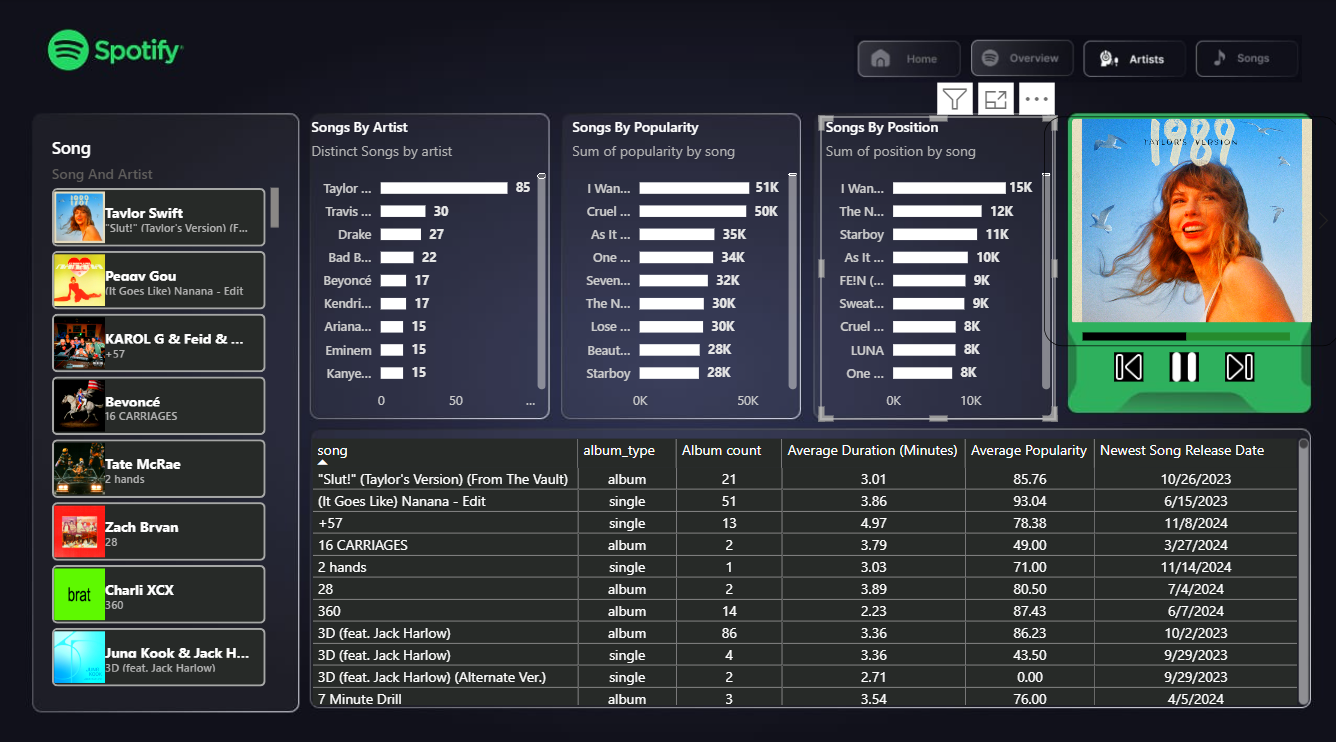

The page's visual inventory and layout, read from the dashboard file:
{"tool":"powerbi","page":{"name":"Songs","canvas":[1280,720],"ordinal":3},"visuals":[{"type":"clusteredBarChart","title":" Songs By Artist","fields":{"Category":["Top-50-World.artist"],"Y":["measures (2).Distinct Songs"]},"box":[292.7,112.9,233.8,289.5],"z":0},{"type":"clusteredBarChart","title":"Songs By Popularity","fields":{"Category":["Top-50-World.song"],"Y":["Sum(Top-50-World.popularity)"]},"box":[540.8,112.9,224.3,289.5],"z":1000},{"type":"clusteredBarChart","title":"Songs By Position","fields":{"Category":["Top-50-World.song"],"Y":["Sum(Top-50-World.position)"]},"box":[784.2,112.9,224.3,289.5],"z":2000},{"type":"advancedSlicerVisual","title":"Song ","fields":{"Values":["Top-50-World.song"]},"box":[44.5,132,227.5,547.2],"z":3000},{"type":"advancedSlicerVisual","title":"Song ","fields":{"Values":["Top-50-World.song"]},"box":[997.3,112.9,283.1,219.5],"z":4000},{"type":"hundredPercentStackedBarChart","fields":{"Y":["measures (2).Average Popularity","Avg(Top-50-World.popularity)"]},"box":[1029.1,289.5,208.4,60.4],"z":5000},{"type":"image","box":[1163.9,333,38,40],"z":6000},{"type":"image","box":[1058.9,333,38,40],"z":7000},{"type":"image","box":[1111.4,333,38,40],"z":8000},{"type":"shape","box":[1008.4,106.6,260.9,221.1],"z":9000},{"type":"tableEx","fields":{"Values":["Top-50-World.song","Top-50-World.album_type","measures (2).Album count","measures (2).Average Duration (Minutes)","measures (2).Average Popularity","measures (2).Newest Song Release Date"]},"box":[292.7,415.1,962.3,264],"z":10000},{"type":"actionButton","box":[808.6,37.6,100.2,39.8],"z":11000},{"type":"actionButton","box":[919.9,37.6,105,39.8],"z":12000},{"type":"actionButton","box":[1036,37.6,100.2,39.8],"z":13000},{"type":"image","box":[809.6,30.2,440.6,55.7],"z":13001},{"type":"actionButton","box":[820.8,38.2,90.7,39.8],"z":13002},{"type":"actionButton","box":[919.4,38.2,105,39.8],"z":13003},{"type":"actionButton","box":[1029.1,38.2,92.3,39.8],"z":13004},{"type":"actionButton","box":[1140.5,38.2,97,39.8],"z":13005}]}

Visuals, with their boxes on the page's 1280x720 design canvas (x1, y1, x2, y2). These are canvas units, not pixel positions in the 1336x742 screenshot, which may show the page scaled, cropped or inside an application window:
" Songs By Artist" clusteredBarChart: region(293, 113, 526, 402)
"Songs By Popularity" clusteredBarChart: region(541, 113, 765, 402)
"Songs By Position" clusteredBarChart: region(784, 113, 1008, 402)
"Song " advancedSlicerVisual: region(44, 132, 272, 679)
"Song " advancedSlicerVisual: region(997, 113, 1280, 332)
hundredPercentStackedBarChart - measures (2).Average Popularity x Avg(Top-50-World.popularity): region(1029, 290, 1238, 350)
image: region(1164, 333, 1202, 373)
image: region(1059, 333, 1097, 373)
image: region(1111, 333, 1149, 373)
shape: region(1008, 107, 1269, 328)
tableEx - Top-50-World.song x Top-50-World.album_type: region(293, 415, 1255, 679)
actionButton: region(809, 38, 909, 77)
actionButton: region(920, 38, 1025, 77)
actionButton: region(1036, 38, 1136, 77)
image: region(810, 30, 1250, 86)
actionButton: region(821, 38, 912, 78)
actionButton: region(919, 38, 1024, 78)
actionButton: region(1029, 38, 1121, 78)
actionButton: region(1140, 38, 1238, 78)
